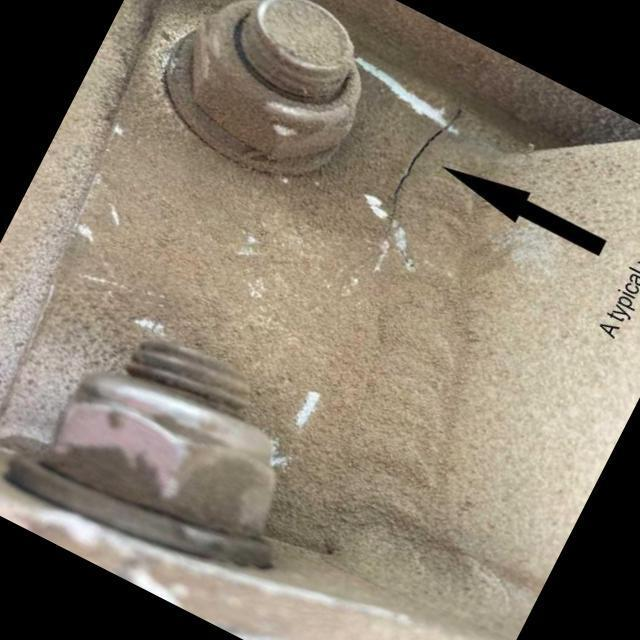defect: (375, 105, 468, 256)
